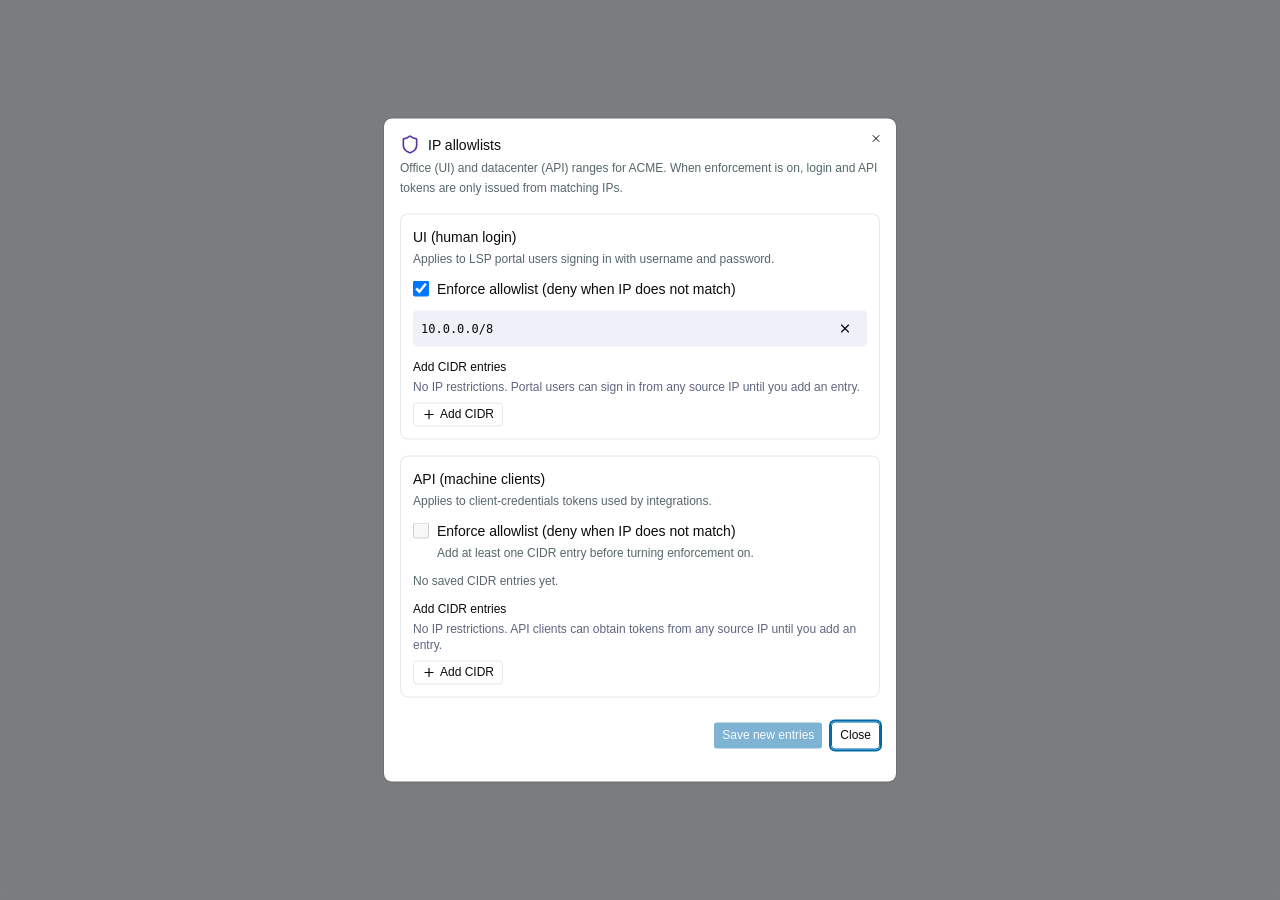
Scenario: LspIpAllowlistDialog › keeps pending entries visible when saving fails
Expected: the text "10.0.0.0/8" is shown, x1=421 y1=320 x2=493 y2=336
Click the button "Add CIDR" below "No saved CIDR entries yet." at (458, 672), box x1=413 y1=660 x2=503 y2=684
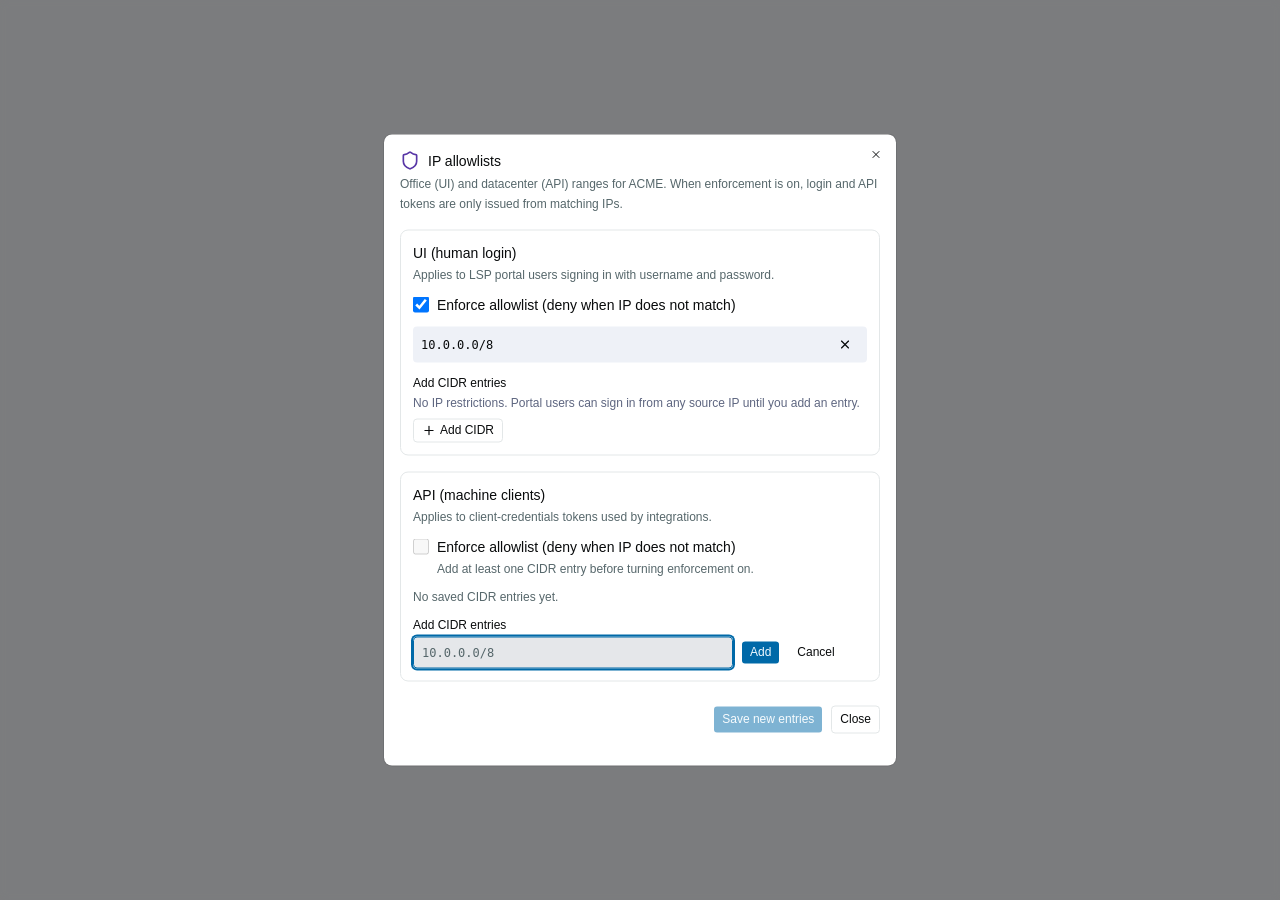
Type "203.0.113.7" into the field named "New CIDR entry" at (573, 652), box x1=413 y1=636 x2=733 y2=668
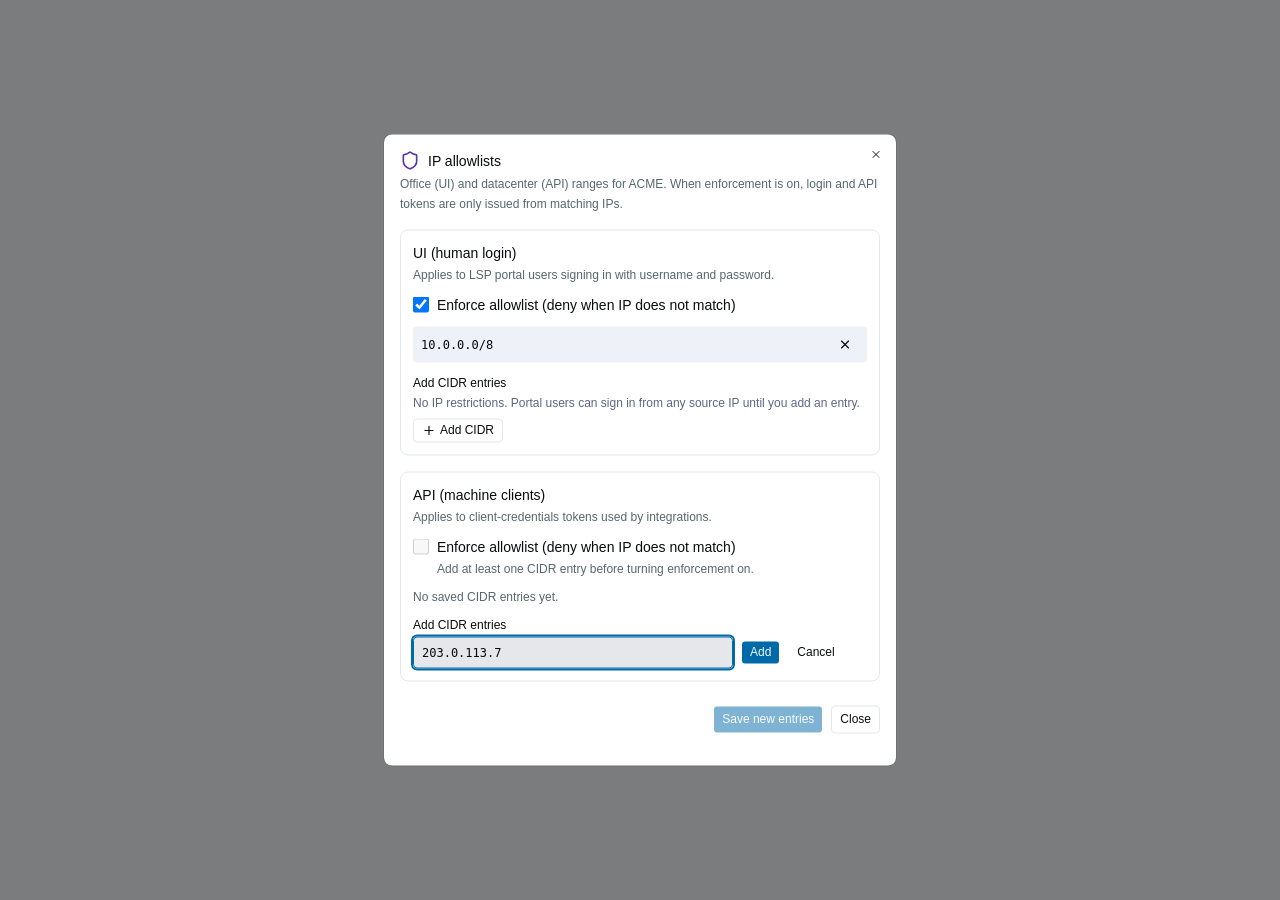
Click the button "Add" at (761, 652), box x1=741 y1=640 x2=780 y2=664
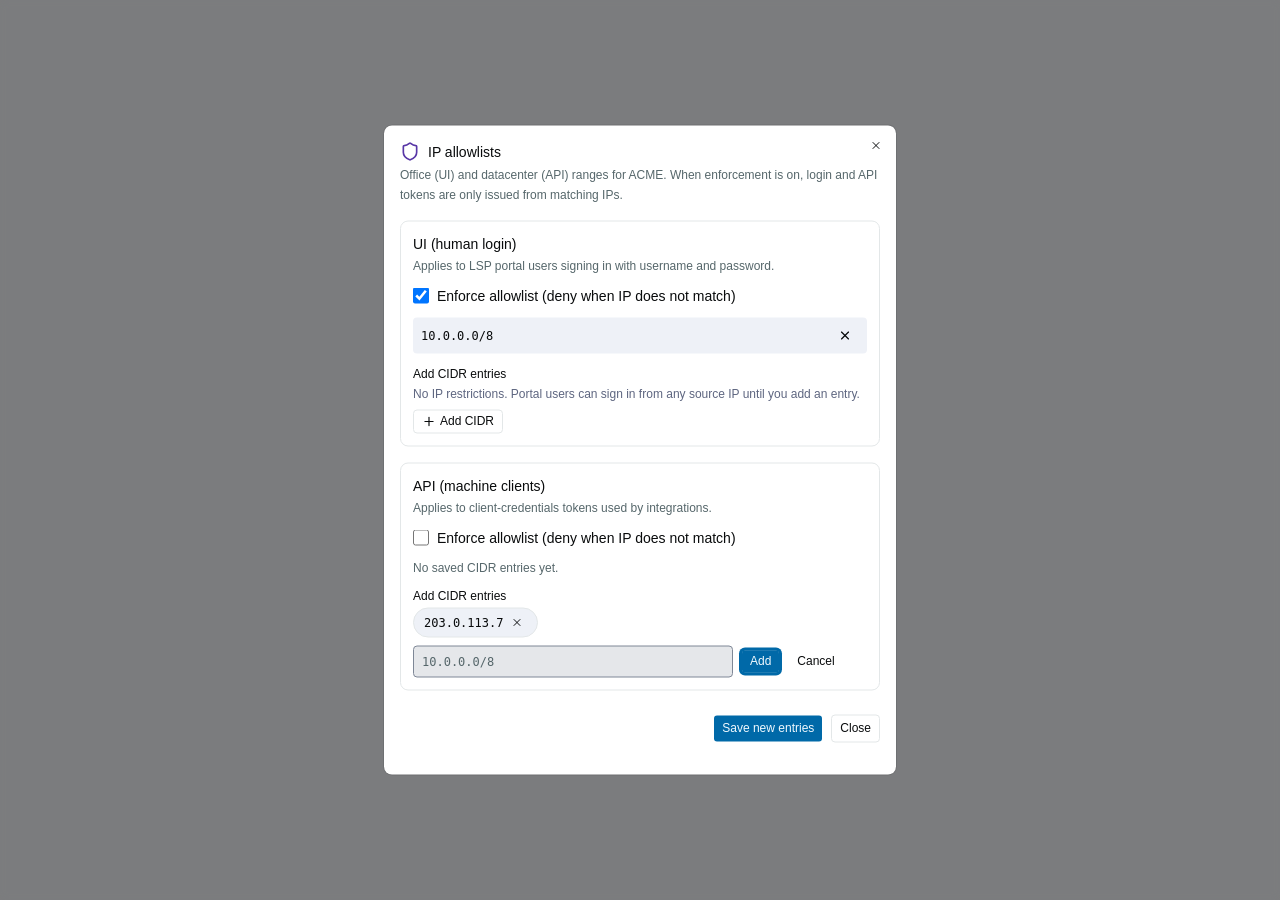
Click the button "Save new entries" at (768, 728), box x1=713 y1=714 x2=823 y2=742
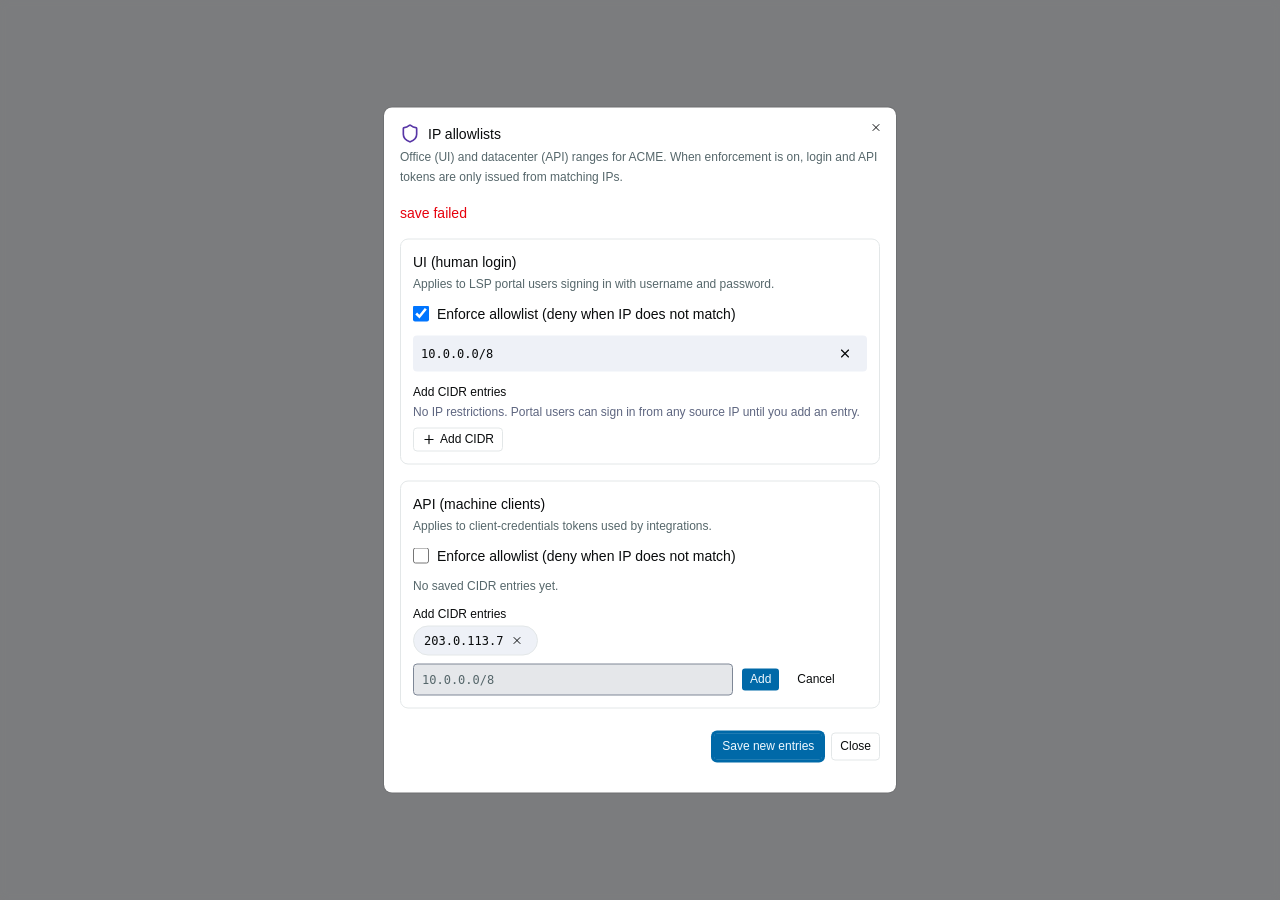
Expected: the text "203.0.113.7" is shown, x1=424 y1=632 x2=504 y2=648
Expected: the message reads "save failed", x1=400 y1=204 x2=467 y2=220
